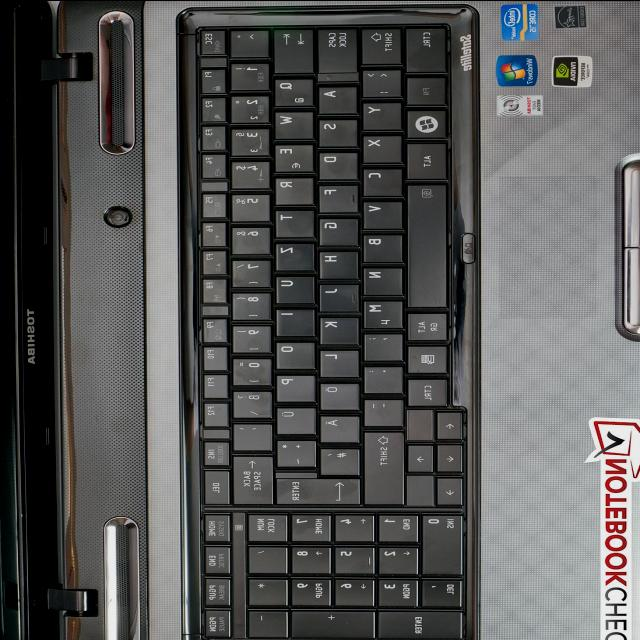0: (228, 354, 270, 384)
1: (226, 59, 268, 89)
2: (226, 91, 268, 121)
3: (226, 124, 268, 154)
4: (226, 157, 268, 186)
5: (227, 190, 268, 219)
6: (227, 223, 269, 253)
7: (228, 256, 270, 285)
8: (228, 289, 270, 318)
9: (228, 321, 270, 351)
a: (314, 82, 356, 112)
accent: (228, 420, 270, 449)
ae: (316, 412, 358, 441)
alt-left: (402, 138, 445, 178)
altgr-right: (403, 309, 446, 339)
b: (358, 229, 402, 260)
c: (358, 165, 401, 195)
caret: (226, 27, 268, 55)
comma: (359, 330, 401, 359)
d: (314, 148, 357, 178)
del: (228, 451, 271, 502)
e: (270, 141, 312, 171)
enter: (269, 474, 360, 503)
f: (315, 181, 357, 210)
g: (315, 214, 357, 243)
h: (315, 247, 357, 276)
hash: (316, 445, 358, 473)
i: (272, 305, 313, 334)
j: (315, 280, 357, 309)
k: (316, 313, 358, 342)
keyboard: (170, 0, 473, 640)
l: (316, 347, 358, 375)
less: (358, 66, 400, 96)
m: (359, 297, 402, 327)
minus: (360, 395, 402, 424)
n: (359, 264, 401, 293)
o: (272, 337, 313, 366)
oe: (316, 379, 358, 408)
p: (272, 370, 314, 400)
plus: (272, 436, 314, 465)
point: (360, 363, 402, 392)
q: (270, 74, 313, 105)
r: (271, 173, 313, 203)
s: (314, 115, 357, 145)
shift-left: (357, 23, 401, 62)
shift-lock: (313, 24, 356, 72)
shift-right: (359, 427, 401, 503)
space: (403, 182, 447, 306), (98, 7, 133, 150), (101, 515, 137, 640)
ss: (228, 387, 270, 416)
strg-left: (401, 21, 446, 71)
strg-right: (403, 375, 446, 405)
t: (271, 206, 313, 235)
tab: (269, 26, 312, 71)
u: (272, 272, 314, 302)
ue: (272, 403, 314, 432)
v: (358, 197, 401, 227)
w: (270, 107, 313, 137)
x: (359, 131, 401, 161)
y: (358, 99, 400, 128)
z: (272, 239, 314, 268)
